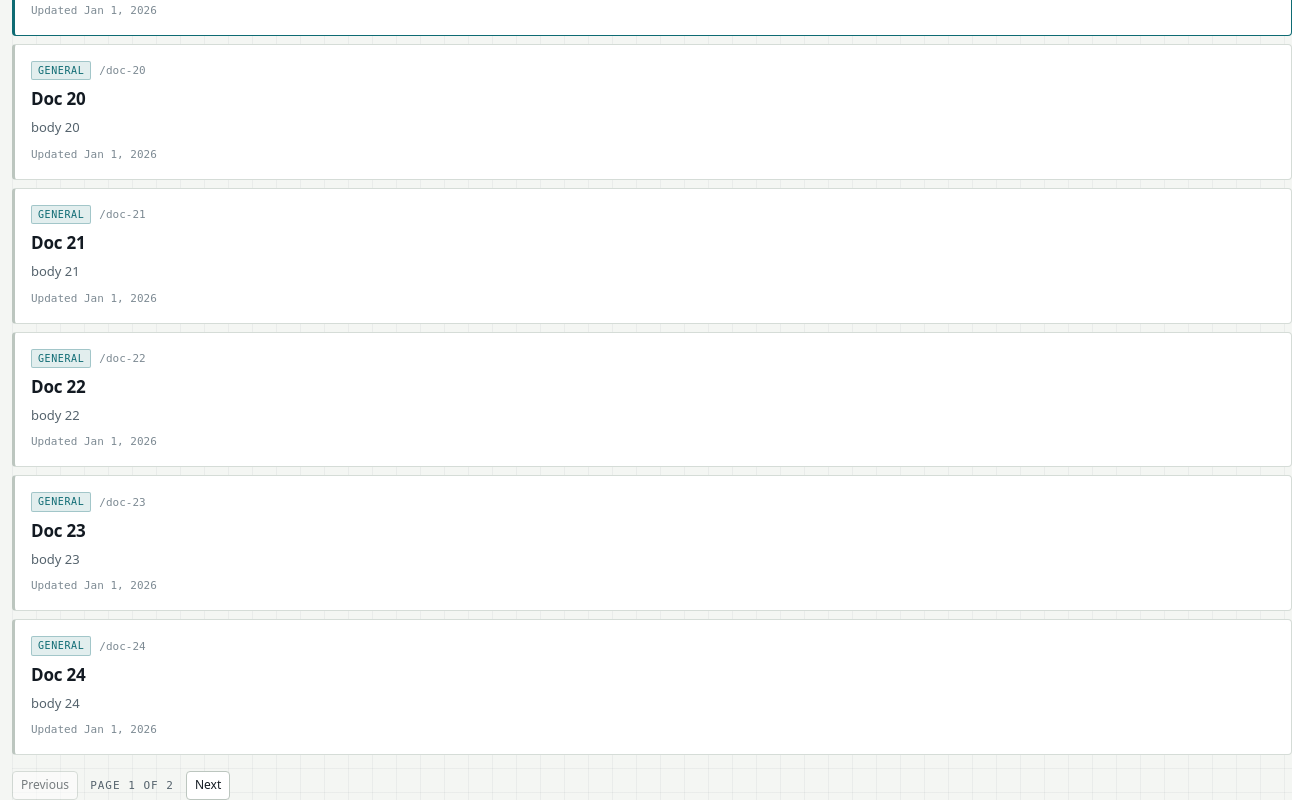
Test: DocumentListPage paging › shows the second page of documents after pressing Next
(page scrolled)
Click the button "Next" at coordinates (208, 786), box [186,771,230,799]
(page scrolled)
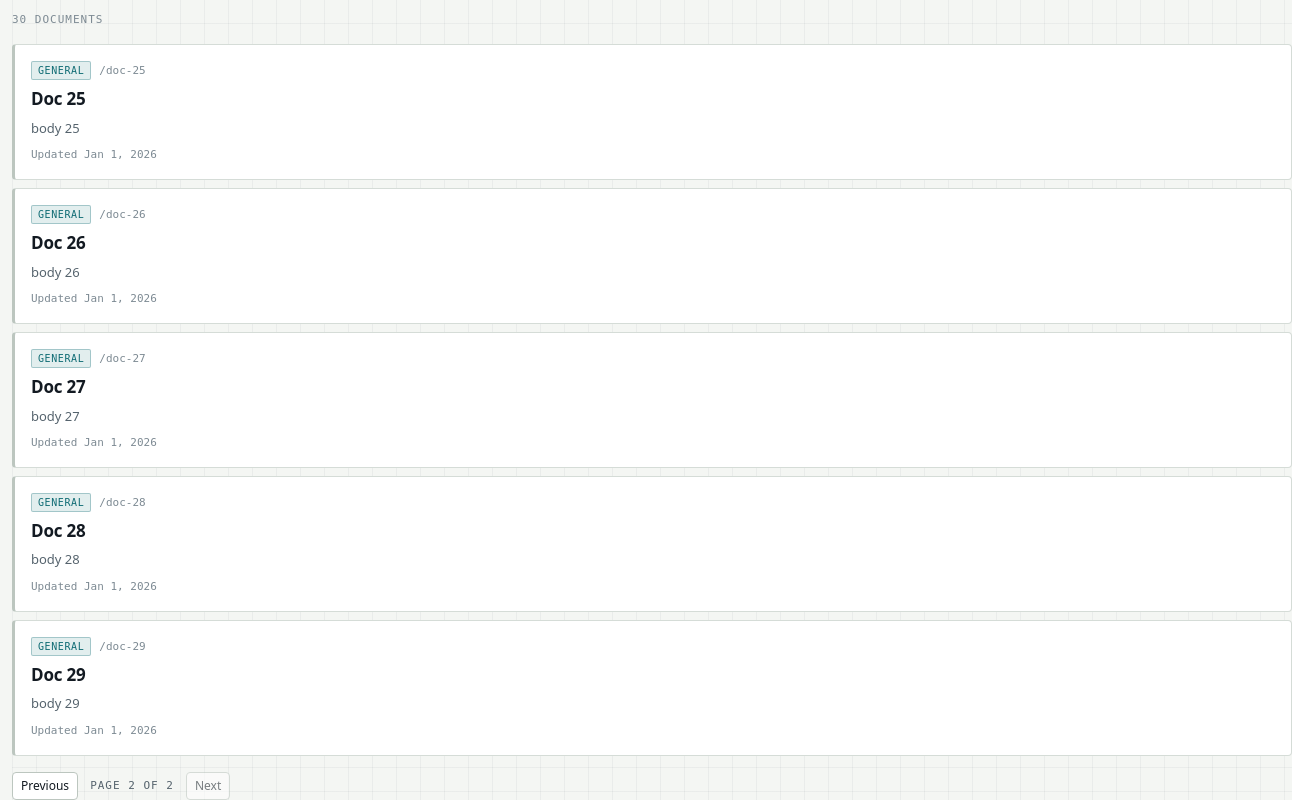
Expected: the heading "Doc 25" is shown, [31,87,86,110]
Expected: the text "Page 2 of 2" is shown, [90,777,174,794]
